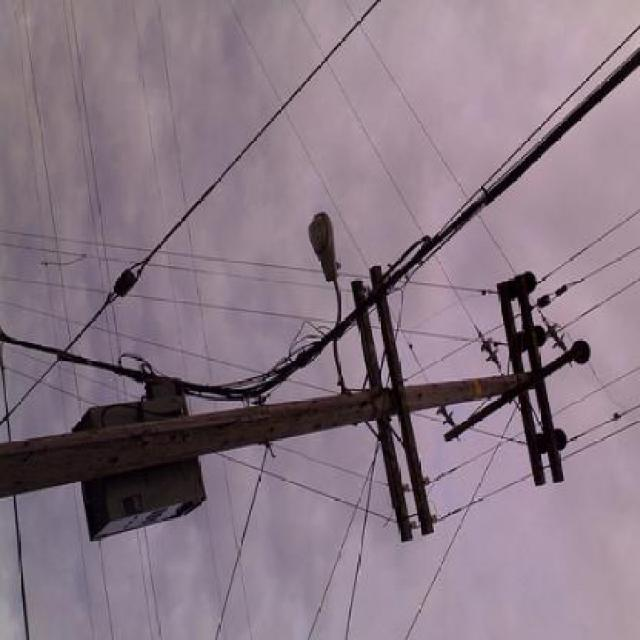pole: (4, 253, 596, 578)
